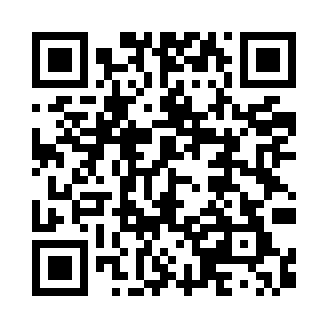QR_CODE: (23, 22, 303, 301)
